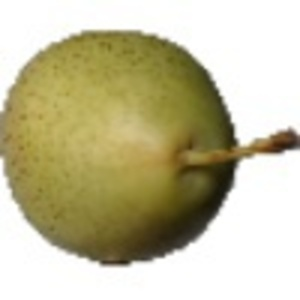pera: (1, 24, 300, 269)
